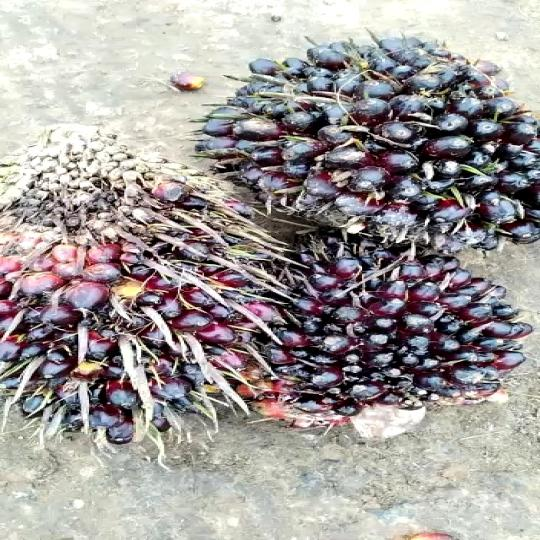kurang masak: (0, 140, 268, 450), (216, 27, 540, 249), (230, 224, 516, 414)
